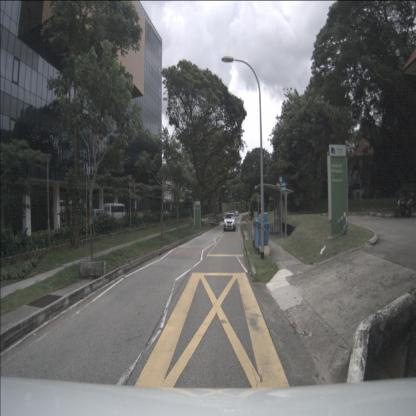vehicle-car: (104, 202, 128, 223), (90, 209, 108, 225), (224, 213, 235, 231)
vehicle-motorcycle: (394, 191, 416, 219)
